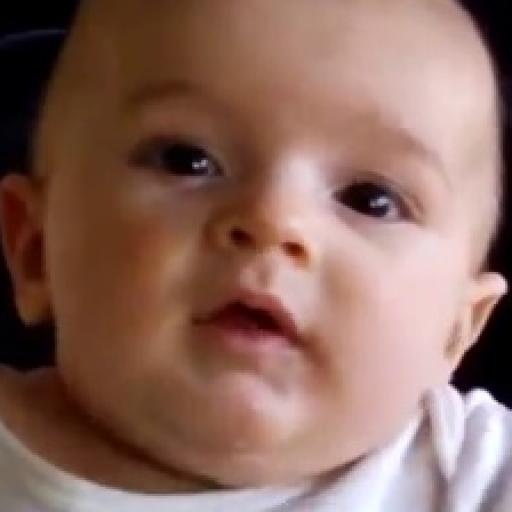Autism: (50, 6, 499, 508)
